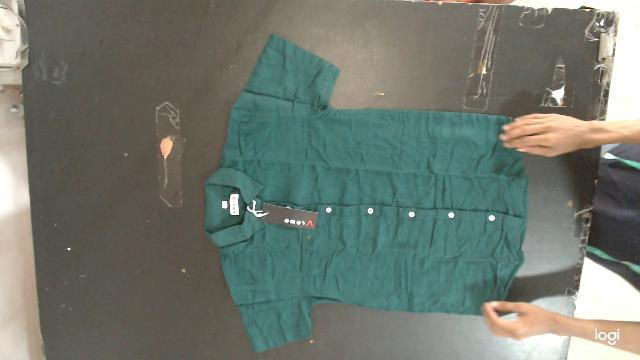new-garment: (205, 35, 528, 351)
